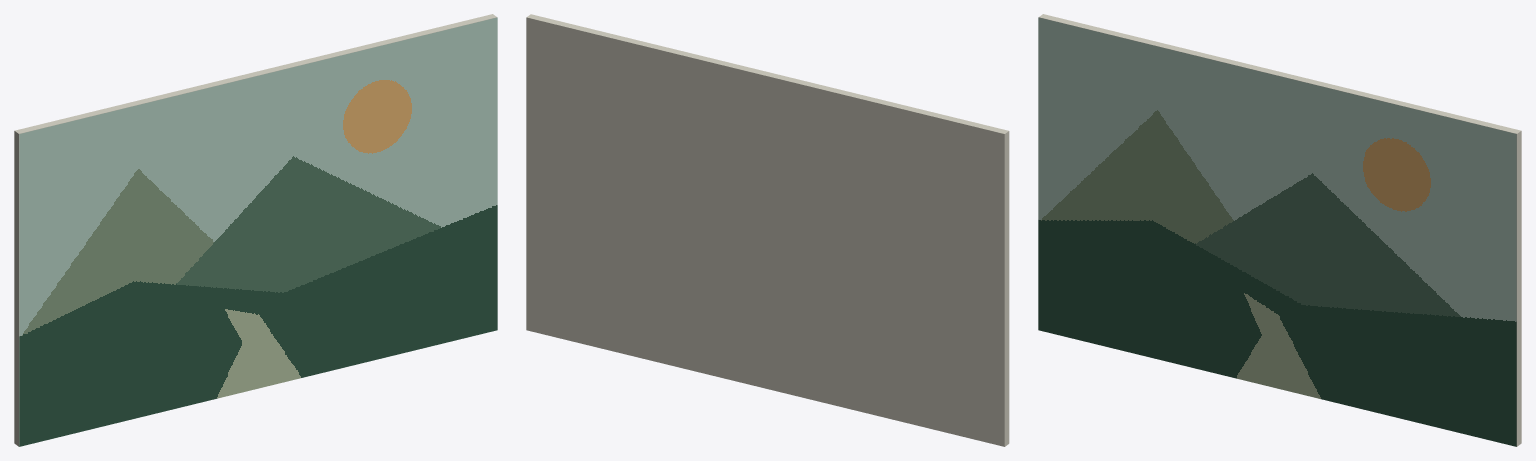
File: image-plane.glb
3 renders of one model, left to right at view 1: azimuth 30°, elevation 25°; view 2: azimuth 150°, elevation 25°; view 3: azimuth 330°, elevation 25°, orthographic.
Visible parts, largest first — view 1: image-plane; view 2: image-plane; view 3: image-plane.
Part boxes in pixels (x1,y1,x2,y2): image-plane: [14, 14, 497, 446]; image-plane: [526, 14, 1009, 446]; image-plane: [1038, 14, 1521, 446].
Size of the model in its own units: 1.12 by 0.7 by 0.019.
Materials: 2 (1 with a texture image).
